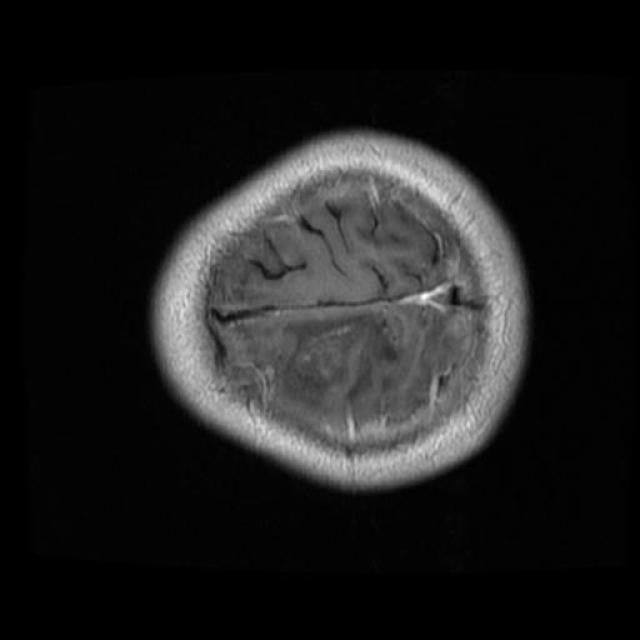Glioma: (273, 313, 377, 436)
